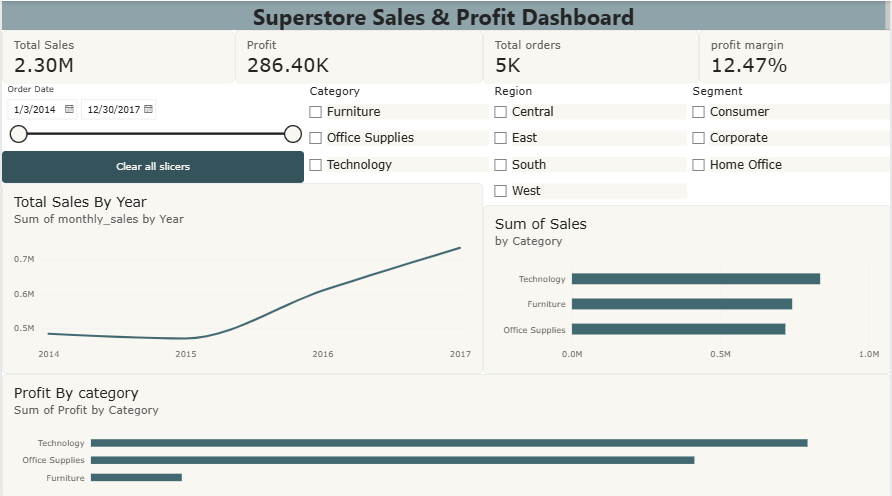

Layout of this report page (visuals, bound fields, positions):
{"tool":"powerbi","page":{"name":"Executive overview","canvas":[1280,720],"ordinal":0},"visuals":[{"type":"textbox","box":[0,0,1280.2,41.8],"z":0},{"type":"cardVisual","fields":{"Data":["Sum(total_revenue.total_sales)"]},"box":[0,41.8,335.5,77.8],"z":1000},{"type":"cardVisual","fields":{"Data":["Sum(total_revenue.total_profit)"]},"box":[335.5,41.8,357.1,77.8],"z":2000},{"type":"cardVisual","fields":{"Data":["cleaned_Superstore.Total orders"]},"box":[692.6,41.8,311,77.8],"z":3000},{"type":"cardVisual","fields":{"Data":["cleaned_Superstore.profit margin"]},"box":[1003.7,41.8,276.5,77.8],"z":4000},{"type":"lineChart","title":"Total Sales By Year","fields":{"Category":["monthly_sales.month.Variation.Date Hierarchy.Year","monthly_sales.month.Variation.Date Hierarchy.Quarter","monthly_sales.month.Variation.Date Hierarchy.Month","monthly_sales.month.Variation.Date Hierarchy.Day"],"Y":["Sum(monthly_sales.monthly_sales)"]},"box":[0,262.1,692.6,275],"z":5000},{"type":"clusteredBarChart","fields":{"Category":["cleaned_Superstore.Category"],"Y":["Sum(cleaned_Superstore.Sales)"]},"box":[692.6,293.8,587.5,243.4],"z":6000},{"type":"clusteredBarChart","title":"Profit By category","fields":{"Category":["cleaned_Superstore.Category"],"Y":["Sum(cleaned_Superstore.Profit)"]},"box":[0,537.1,1280.2,182.9],"z":7000},{"type":"slicer","fields":{"Values":["cleaned_Superstore.Order Date"]},"box":[0,119.5,434.6,96.6],"z":8000},{"type":"slicer","fields":{"Values":["cleaned_Superstore.Region"]},"box":[701.3,119.5,285.1,174.2],"z":9000},{"type":"slicer","fields":{"Values":["cleaned_Superstore.Category"]},"box":[434.9,119.5,266.4,142.6],"z":10000},{"type":"slicer","fields":{"Values":["cleaned_Superstore.Segment"]},"box":[986.4,119.5,293.8,174.2],"z":11000},{"type":"actionButton","box":[0,216,434.9,46.1],"z":12000}]}

Visuals, with their boxes in screenshot pixels (x1, y1, x2, y2), scaled from the page's 1280x720 canvas onto the 892x496 screenshot:
textbox: bbox=[0, 0, 891, 29]
cardVisual - Sum(total_revenue.total_sales): bbox=[0, 29, 234, 82]
cardVisual - Sum(total_revenue.total_profit): bbox=[234, 29, 483, 82]
cardVisual - cleaned_Superstore.Total orders: bbox=[483, 29, 699, 82]
cardVisual - cleaned_Superstore.profit margin: bbox=[699, 29, 891, 82]
"Total Sales By Year" lineChart: bbox=[0, 181, 483, 370]
clusteredBarChart - cleaned_Superstore.Category x Sum(cleaned_Superstore.Sales): bbox=[483, 202, 891, 370]
"Profit By category" clusteredBarChart: bbox=[0, 370, 891, 495]
slicer - cleaned_Superstore.Order Date: bbox=[0, 82, 303, 149]
slicer - cleaned_Superstore.Region: bbox=[489, 82, 687, 202]
slicer - cleaned_Superstore.Category: bbox=[303, 82, 489, 181]
slicer - cleaned_Superstore.Segment: bbox=[687, 82, 891, 202]
actionButton: bbox=[0, 149, 303, 181]
